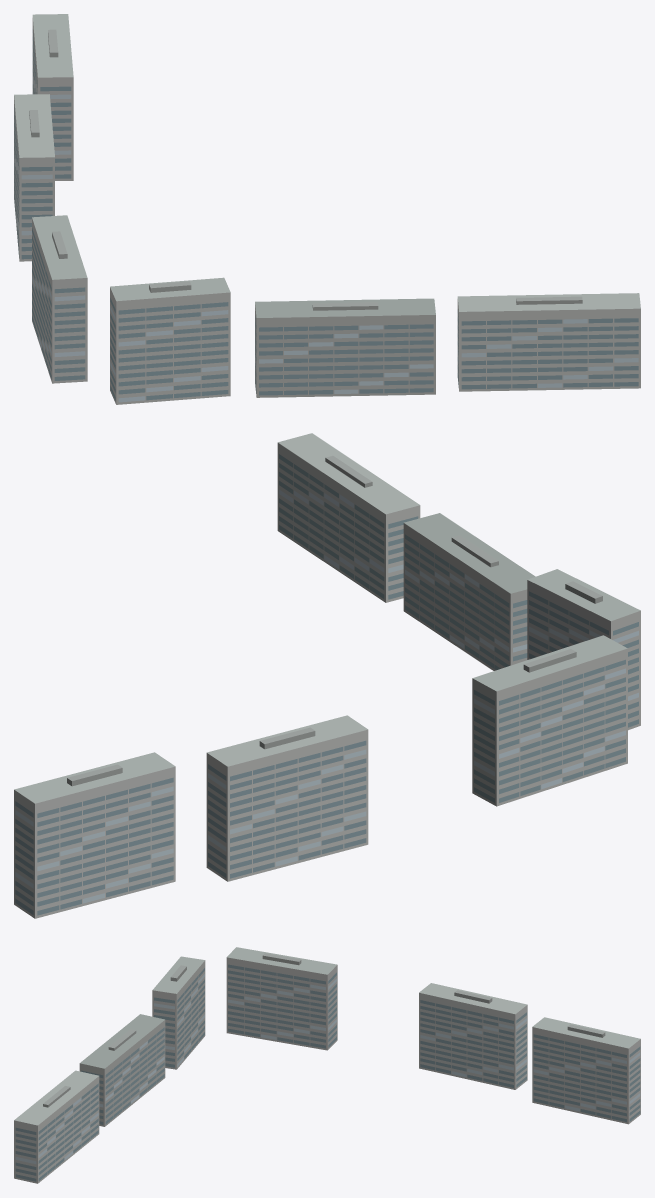
The model's file is apt-a13402103.glb.
3 views of the same model, one above another, from view 1: azimuth 30°, elevation 25°; view 2: azimuth 150°, elevation 25°; view 3: azimuth 270°, elevation 25° (orthographic). The views are drawn at different scales.
Parts seen in each view (by area): view 1: apt-a13402103; view 2: apt-a13402103; view 3: apt-a13402103.
Boxes of the visible parts, x1,y1,x2,y2 form: apt-a13402103: [14, 14, 640, 404]; apt-a13402103: [14, 433, 640, 918]; apt-a13402103: [14, 947, 640, 1183].
Bounding box in the file's own units: 181 × 41.43 × 297.
